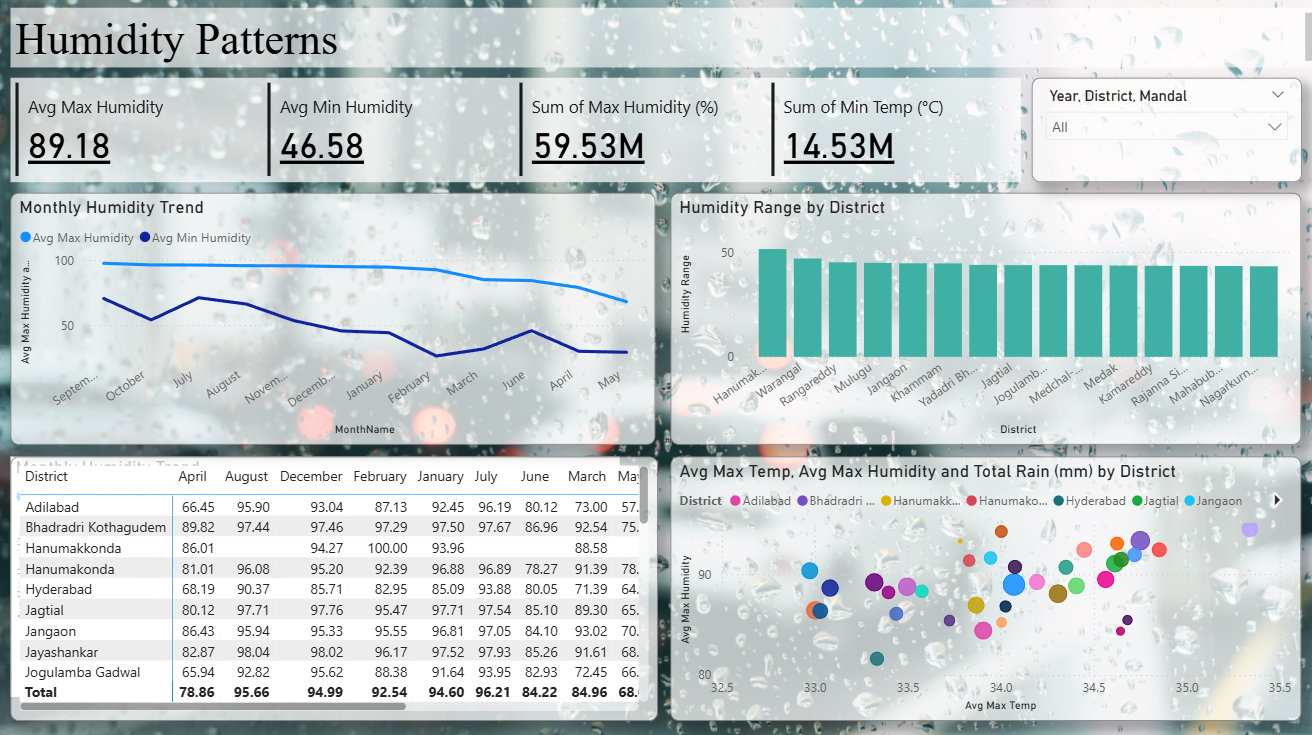

Layout of this report page (visuals, bound fields, positions):
{"tool":"powerbi","page":{"name":"3 – Humidity Patterns","canvas":[1280,720],"ordinal":2},"visuals":[{"type":"textbox","box":[17.1,13,1262.9,57.6],"z":0},{"type":"lineChart","title":"Monthly Humidity Trend","fields":{"Category":["Date.MonthName"],"Y":["Date.Avg Max Humidity","Date.Avg Min Humidity"]},"box":[16.7,446.7,588.3,231.7],"z":1000},{"type":"pivotTable","title":"District vs Month Humidity","fields":{"Rows":["Weather Data.District"],"Columns":["Date.MonthName"],"Values":["Date.Avg Max Humidity"]},"box":[17.3,446.4,625,254.9],"z":2000},{"type":"columnChart","fields":{"Category":["Weather Data.District"],"Y":["Date.Humidity Range"]},"box":[653.8,191.5,609.1,243.4],"z":3000},{"type":"scatterChart","fields":{"X":["Date.Avg Max Temp"],"Y":["Date.Avg Max Humidity"],"Size":["Date.Total Rain (mm)"],"Series":["Weather Data.District"]},"box":[653.8,446.4,609.1,254.9],"z":4000},{"type":"cardVisual","fields":{"Data":["Date.Avg Max Humidity","Date.Avg Min Humidity","Sum(Weather Data.Max Humidity (%))","Sum(Weather Data.Min Temp (°C))"]},"box":[17.3,80.6,974.9,100.8],"z":5000},{"type":"lineChart","title":"Monthly Humidity Trend","fields":{"Category":["Date.MonthName"],"Y":["Date.Avg Max Humidity","Date.Avg Min Humidity"]},"box":[17.3,191.5,622.1,243.4],"z":6000},{"type":"slicer","fields":{"Values":["Weather Data.Year","Weather Data.District","Weather Data.Mandal"]},"box":[1002.2,80.6,260.6,100.8],"z":7000}]}

Visuals, with their boxes in screenshot pixels (x1, y1, x2, y2), scaled from the page's 1280x720 canvas onto the 1312x735 screenshot:
textbox: crop(18, 13, 1311, 72)
"Monthly Humidity Trend" lineChart: crop(17, 456, 620, 693)
"District vs Month Humidity" pivotTable: crop(18, 456, 658, 716)
columnChart - Weather Data.District x Date.Humidity Range: crop(670, 195, 1294, 444)
scatterChart - Date.Avg Max Temp x Date.Avg Max Humidity: crop(670, 456, 1294, 716)
cardVisual - Date.Avg Max Humidity x Date.Avg Min Humidity: crop(18, 82, 1017, 185)
"Monthly Humidity Trend" lineChart: crop(18, 195, 655, 444)
slicer - Weather Data.Year x Weather Data.District: crop(1027, 82, 1294, 185)
